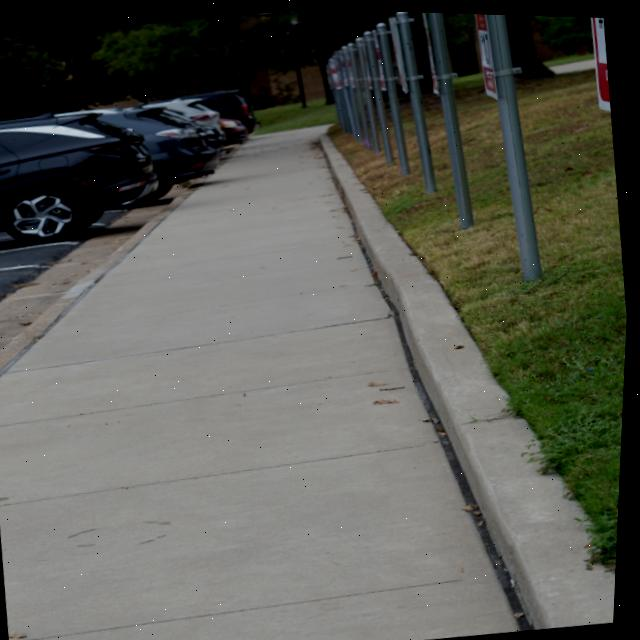Automobile: (0, 112, 159, 241), (103, 104, 222, 198), (180, 88, 260, 131), (201, 89, 259, 131), (153, 98, 221, 130), (221, 116, 250, 144)
Road: (0, 185, 182, 353)
Sidewalk: (0, 123, 524, 640)
